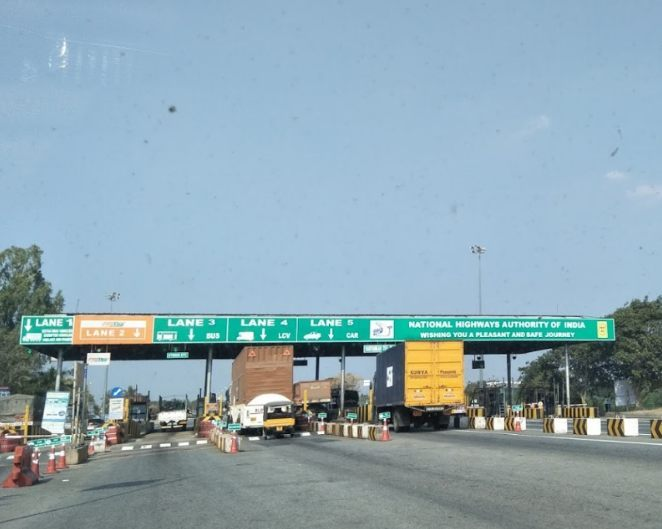toll plaza: (16, 308, 621, 343), (97, 385, 152, 440), (193, 389, 226, 430)
